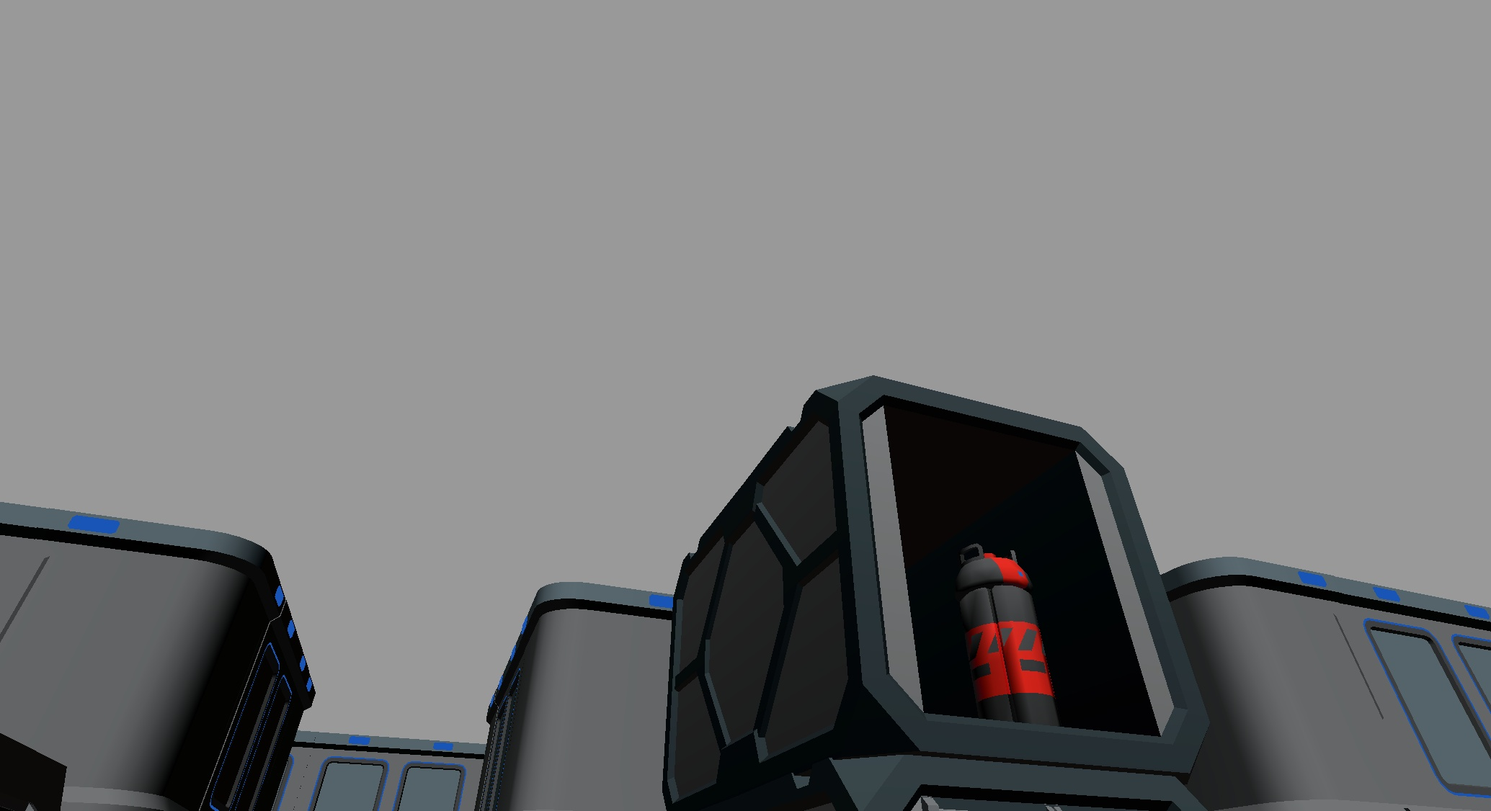red_barrel: (955, 544, 1059, 725)
